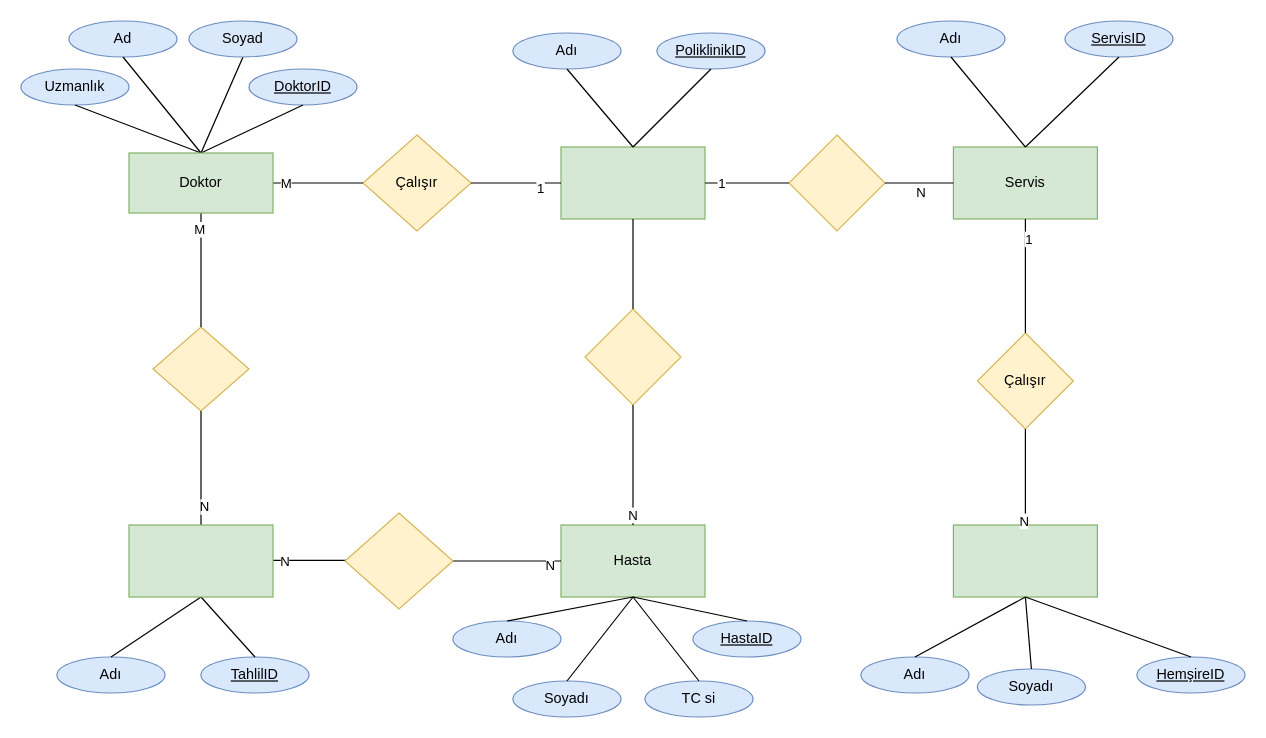
The diagram is 1266 pixels wide and 738 high, and some of its shapes have lost their labels. The shapes that lost their labels are listed below. From the top down, each one's centre as x and y in pixels, then its label:
point (632, 182): Poliklinik
point (836, 182): Bağlıdır
point (200, 368): İster
point (632, 356): Muayene olur
point (200, 560): Tahlil
point (398, 560): Yaptırır
point (1024, 560): Hemşire
